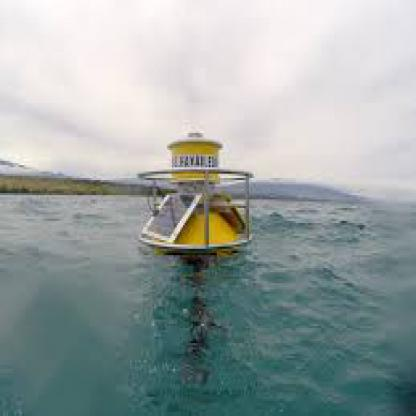buoy: (135, 122, 265, 266)
